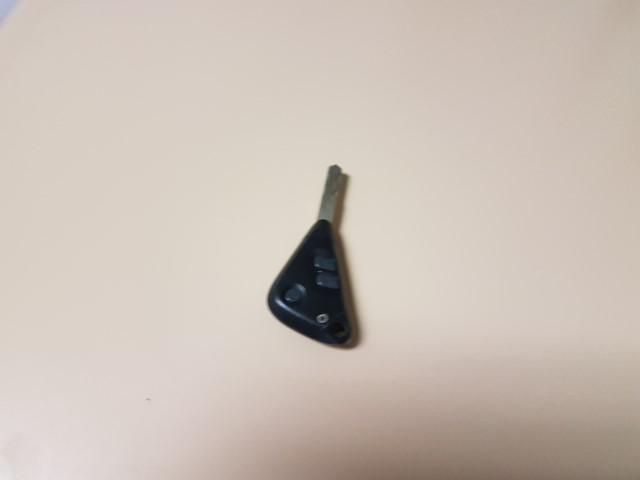key: (269, 165, 352, 342)
